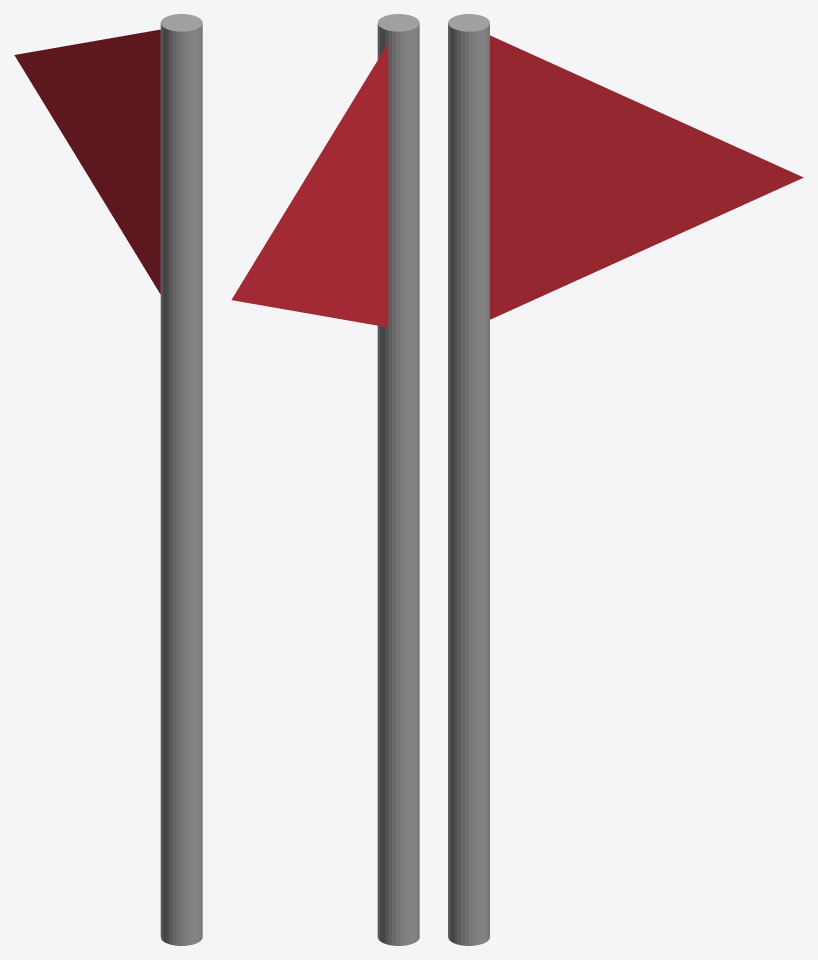
Rendered from flag.glb.
3 views of the same model, side by side, from view 1: azimuth 30°, elevation 25°; view 2: azimuth 150°, elevation 25°; view 3: azimuth 270°, elevation 25° (orthographic).
Parts seen in each view (by area): view 1: Cylinder, Plane; view 2: Cylinder, Plane; view 3: Plane, Cylinder.
Boxes of the visible parts, bbox=[...] form: Cylinder: bbox=[160, 14, 202, 945]; Plane: bbox=[14, 29, 160, 293]; Cylinder: bbox=[377, 14, 419, 945]; Plane: bbox=[231, 43, 388, 327]; Plane: bbox=[490, 35, 803, 319]; Cylinder: bbox=[448, 14, 489, 945].
Bounding box in the file's own units: 0.2493 × 6 × 2.12.
